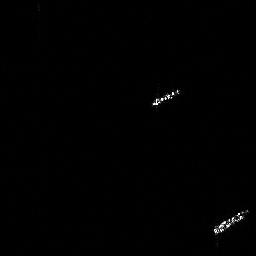ship: (213, 209, 244, 233), (152, 88, 180, 104)
